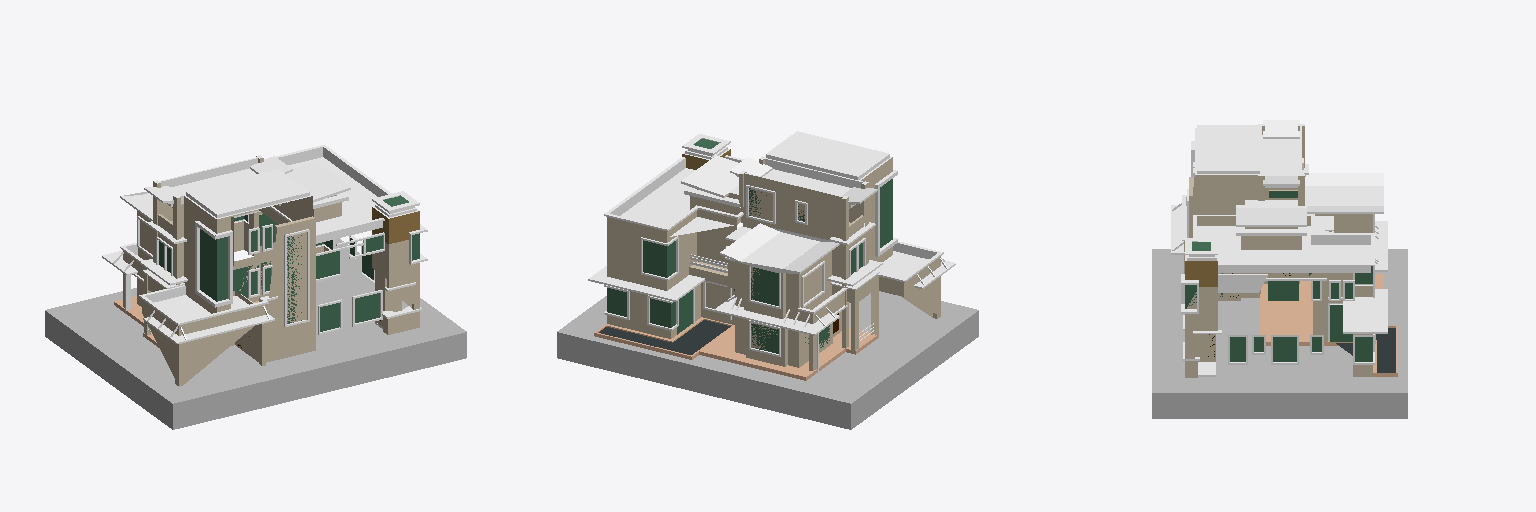
3 views of the same model, side by side, from view 1: azimuth 30°, elevation 25°; view 2: azimuth 150°, elevation 25°; view 3: azimuth 270°, elevation 25° (orthographic).
Visible parts, largest first — view 1: bungalow_2_TypeB; view 2: bungalow_2_TypeB; view 3: bungalow_2_TypeB.
Boxes of the visible parts, <box> form: bungalow_2_TypeB: <box>45,145,466,429</box>; bungalow_2_TypeB: <box>557,131,978,429</box>; bungalow_2_TypeB: <box>1152,120,1407,418</box>.
Bounding box in the file's own units: 25.82 × 15.3 × 19.46.